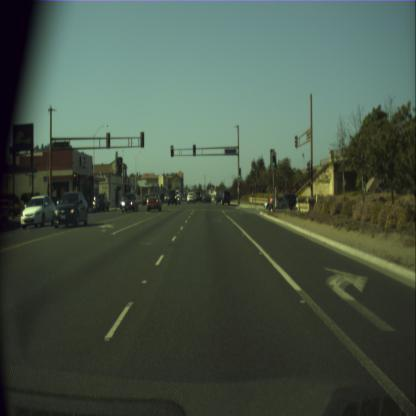Green: (272, 155, 276, 168), (192, 144, 196, 155), (238, 168, 240, 178)
Red: (72, 172, 76, 184), (170, 144, 173, 156)
